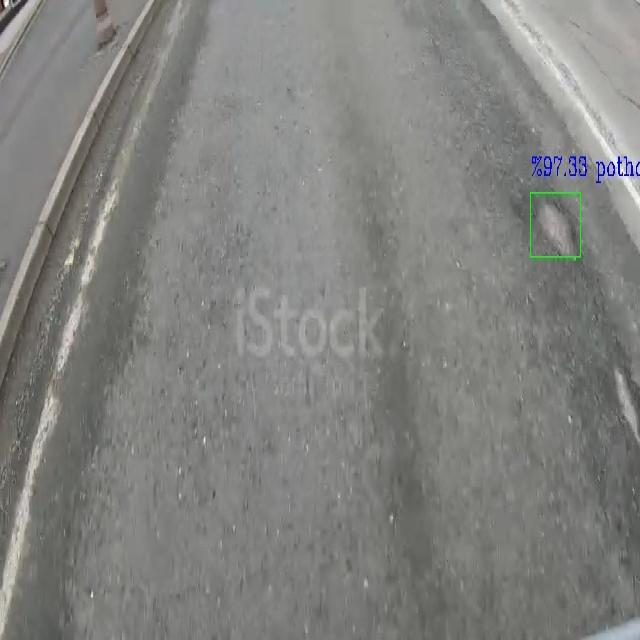pothole: (532, 196, 579, 253)
